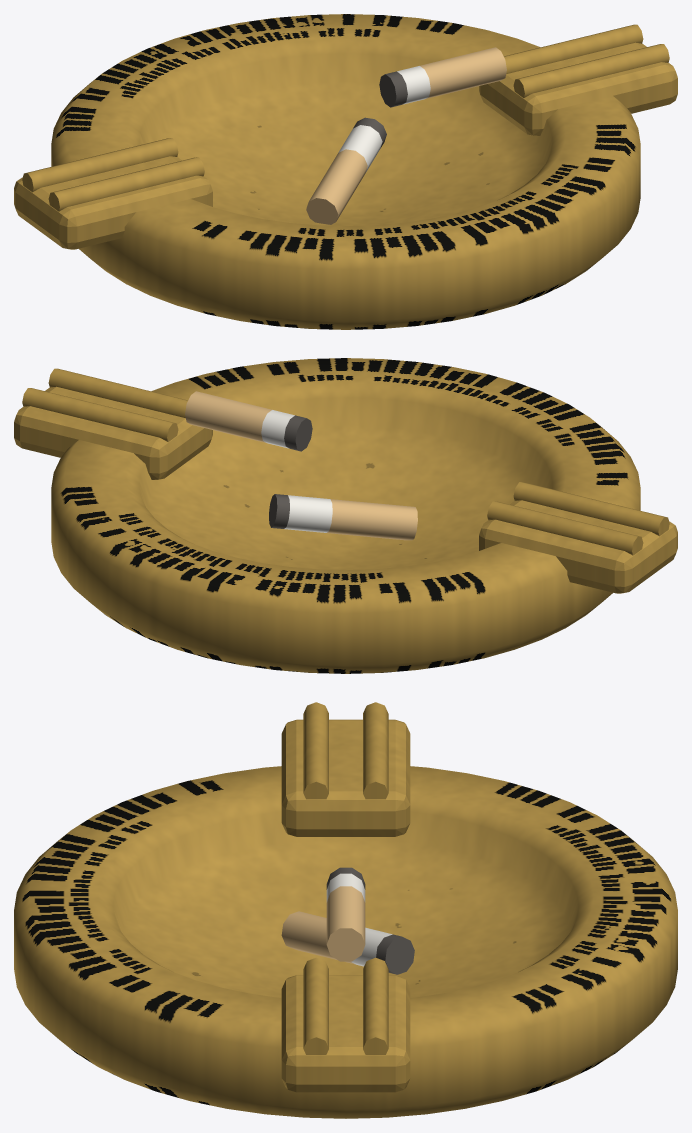
Rendered from ashtray.glb.
3 renders of one model, top to bottom at view 1: azimuth 30°, elevation 25°; view 2: azimuth 150°, elevation 25°; view 3: azimuth 270°, elevation 25°, orthographic. The views are drawn at different scales.
Visible parts, largest first — view 1: ashtray; view 2: ashtray; view 3: ashtray.
Part boxes in pixels (x1,y1,x2,y2): ashtray: (14,14,677,329); ashtray: (14,358,677,673); ashtray: (14,702,677,1118).
Size of the model in its own units: 0.162 by 0.0317 by 0.134.
4 materials, 1 textured.
